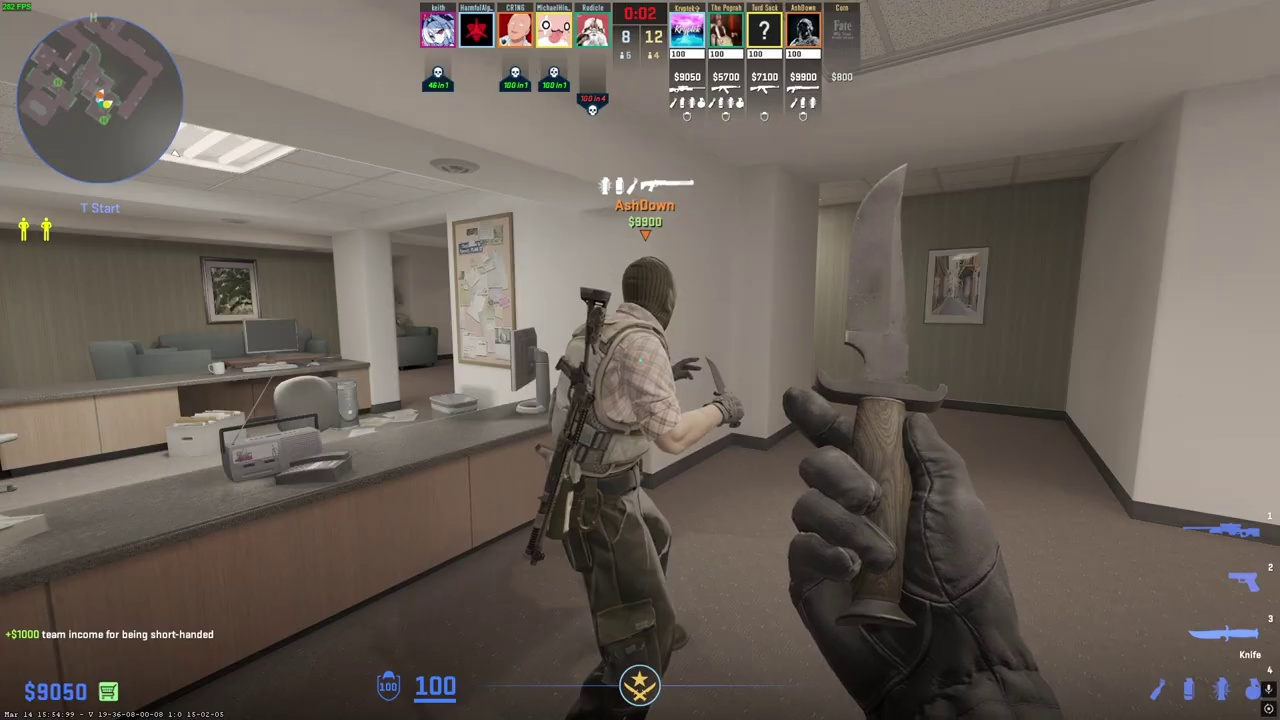Terrorist: (538, 254, 694, 705)
